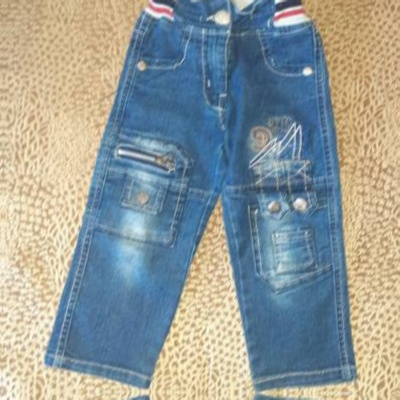Pants: (32, 0, 370, 386)
